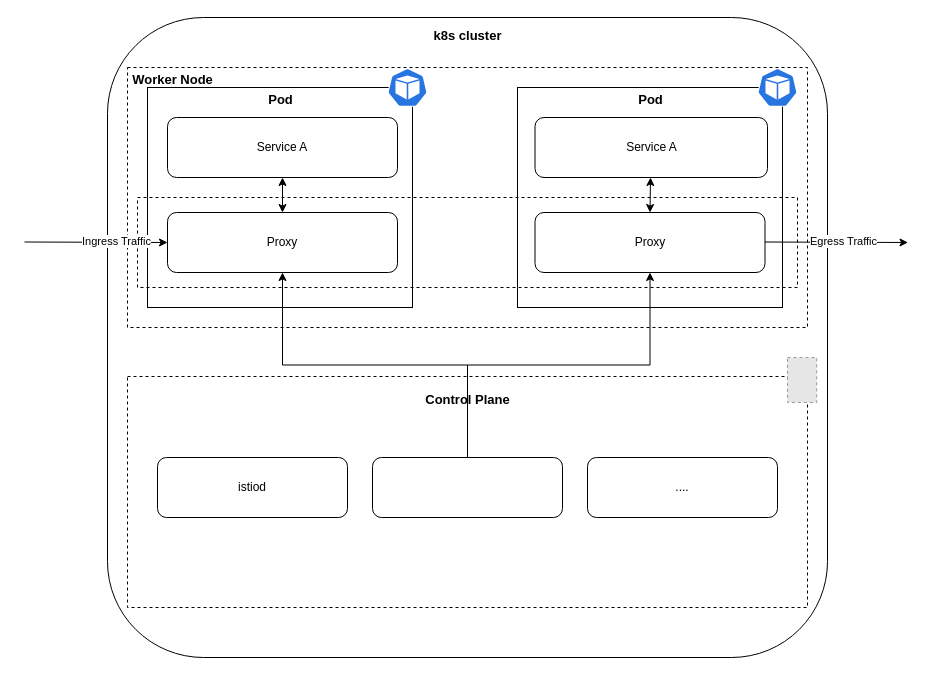
Image size: 934x675. Some labels were removed from this diagram. Grey dashed boxes stand in for pictures. Each missing label, with the centre of its shape:
Data Plane: [467,242]
kiali: [467,487]
